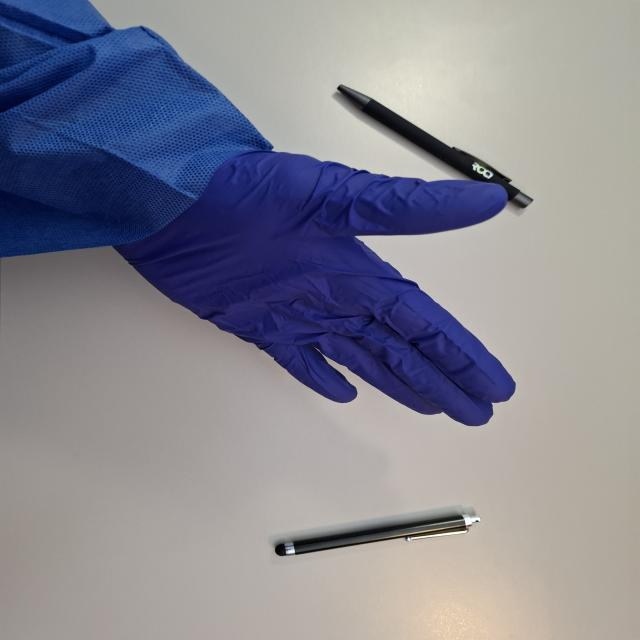glove_on: (111, 146, 520, 429)
